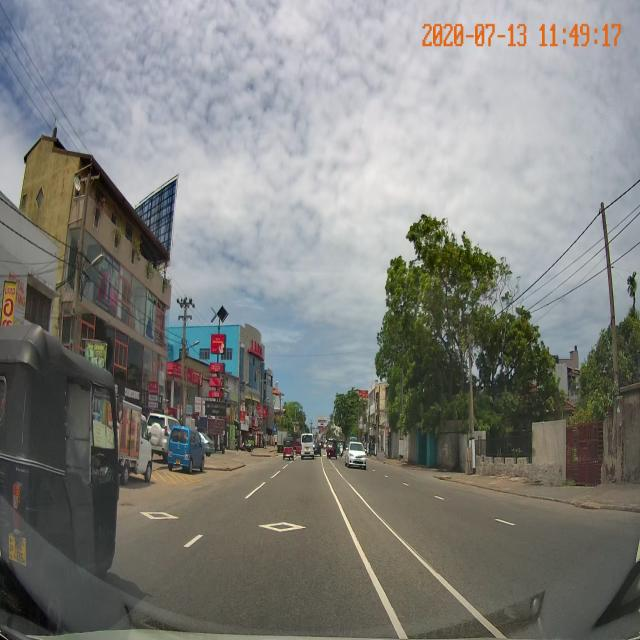Romb: (257, 521, 307, 532), (139, 511, 180, 520)
